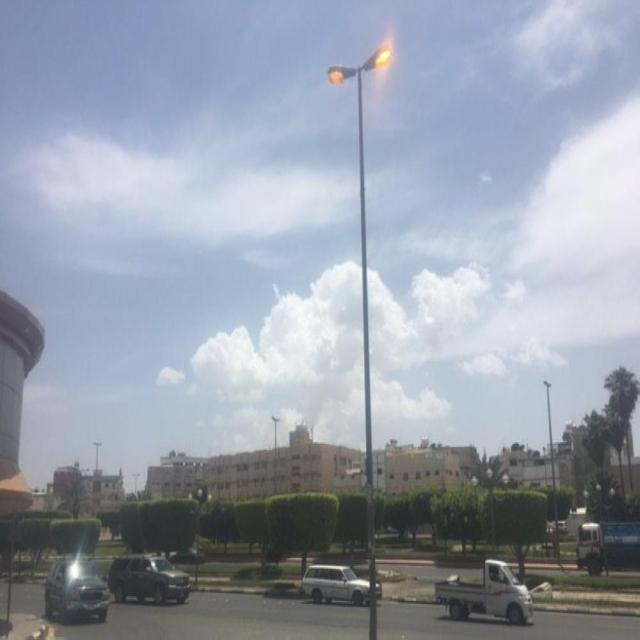Street Light: (327, 44, 393, 640), (543, 378, 560, 566), (270, 416, 282, 558)
